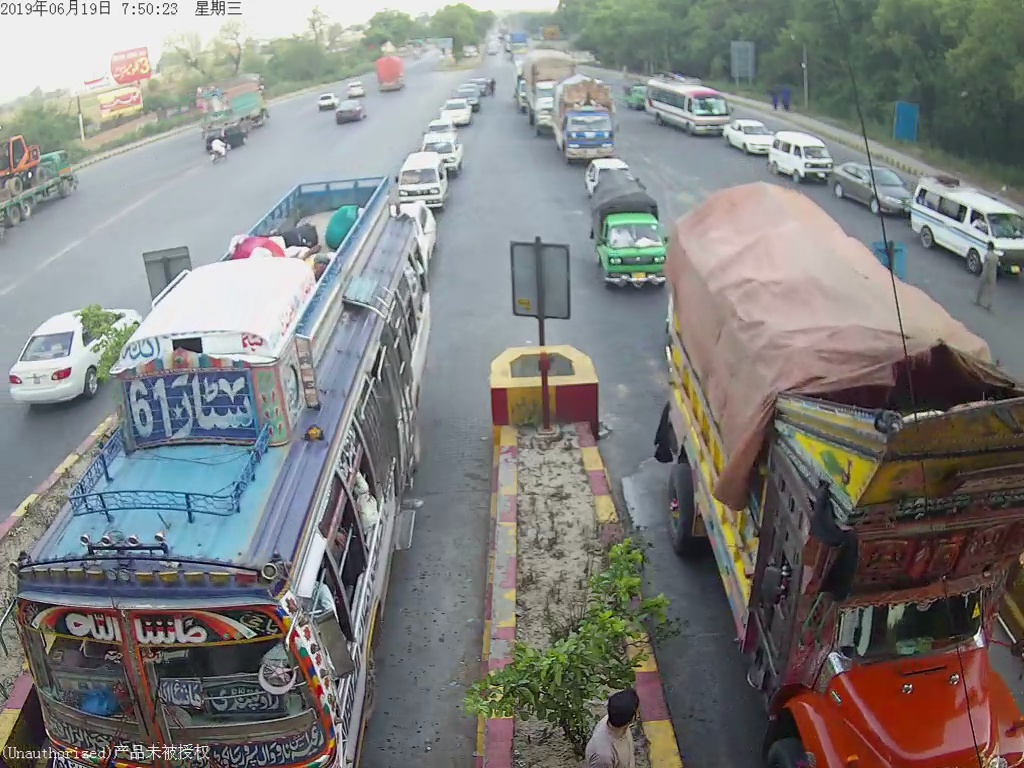Cat-1: (587, 175, 671, 283)
Cat-2: (557, 84, 619, 162)
Cat-3: (51, 147, 430, 768)
